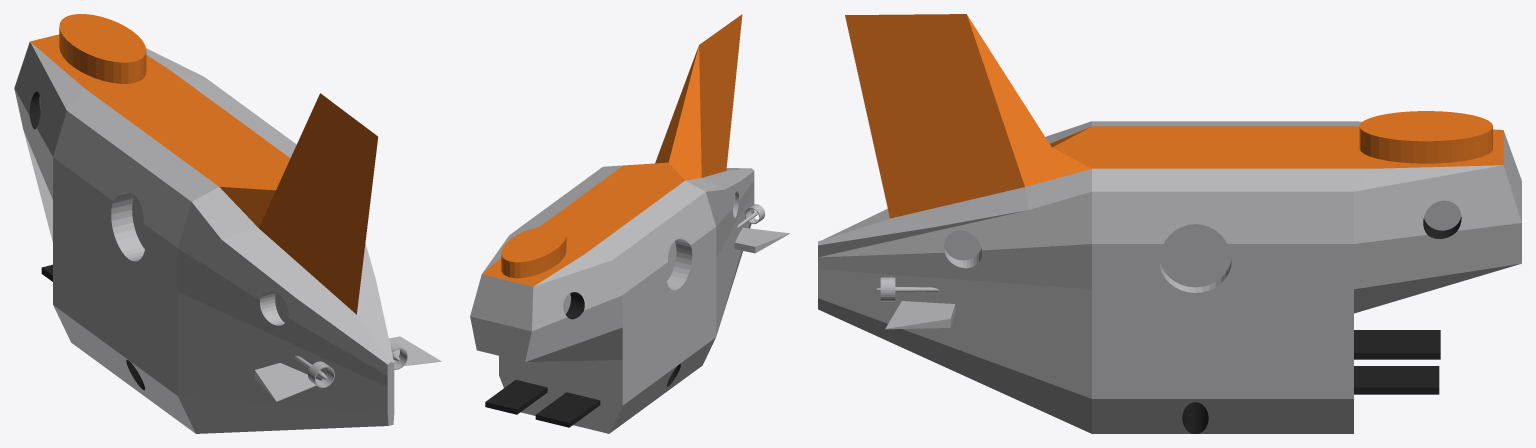
Rendered from Probe.gltf.
3 renders of one model, left to right at view 1: azimuth 30°, elevation 25°; view 2: azimuth 150°, elevation 25°; view 3: azimuth 270°, elevation 25°, orthographic. The views are drawn at different scales.
Visible parts, largest first — view 1: Cube, 円柱; view 2: Cube, 円柱; view 3: Cube.
Part boxes in pixels (<box>): Cube: <box>14,14,441,433</box>; 円柱: <box>294,355,334,388</box>; Cube: <box>470,14,789,433</box>; 円柱: <box>737,204,765,228</box>; Cube: <box>818,14,1521,433</box>.
Bounding box in the file's own units: 0.3863 × 0.8242 × 1.36.
